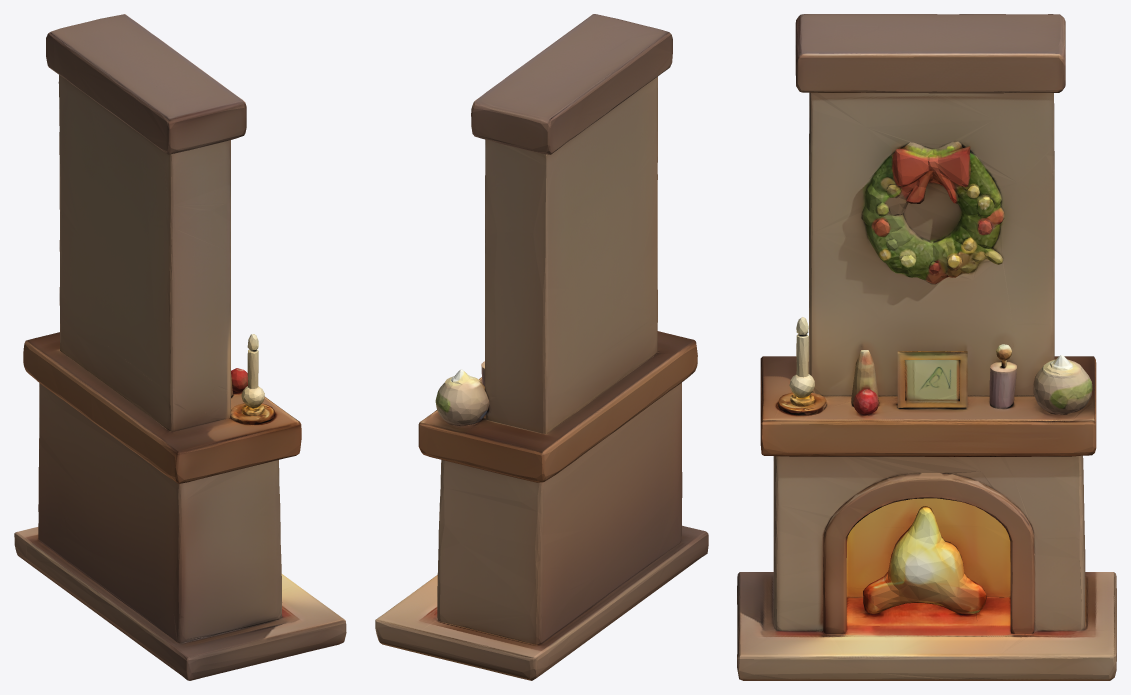
The model's file is fireplace.glb.
3 views of the same model, side by side, from view 1: azimuth 30°, elevation 25°; view 2: azimuth 150°, elevation 25°; view 3: azimuth 270°, elevation 25° (orthographic). The views are drawn at different scales.
Visible parts, largest first — view 1: tripo_node_0c7d04f6-b03c-44a6-b042-0e571d2f1e5c; view 2: tripo_node_0c7d04f6-b03c-44a6-b042-0e571d2f1e5c; view 3: tripo_node_0c7d04f6-b03c-44a6-b042-0e571d2f1e5c.
Boxes of the visible parts, x1,y1,x2,y2 form: tripo_node_0c7d04f6-b03c-44a6-b042-0e571d2f1e5c: (14, 14, 346, 680); tripo_node_0c7d04f6-b03c-44a6-b042-0e571d2f1e5c: (375, 14, 708, 680); tripo_node_0c7d04f6-b03c-44a6-b042-0e571d2f1e5c: (737, 14, 1116, 680).
Size of the model in its own units: 0.3094 by 1 by 0.5827.
Materials: 1 (1 with a texture image).
